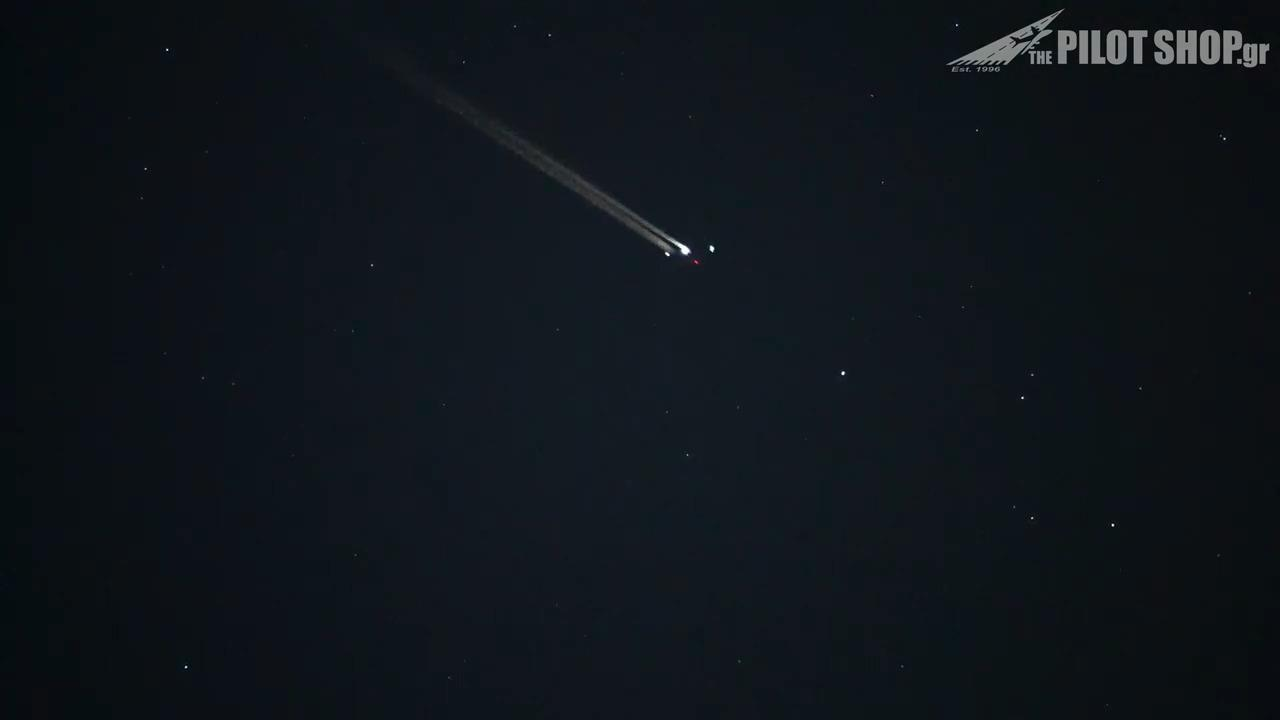Plane: (597, 189, 723, 285)
